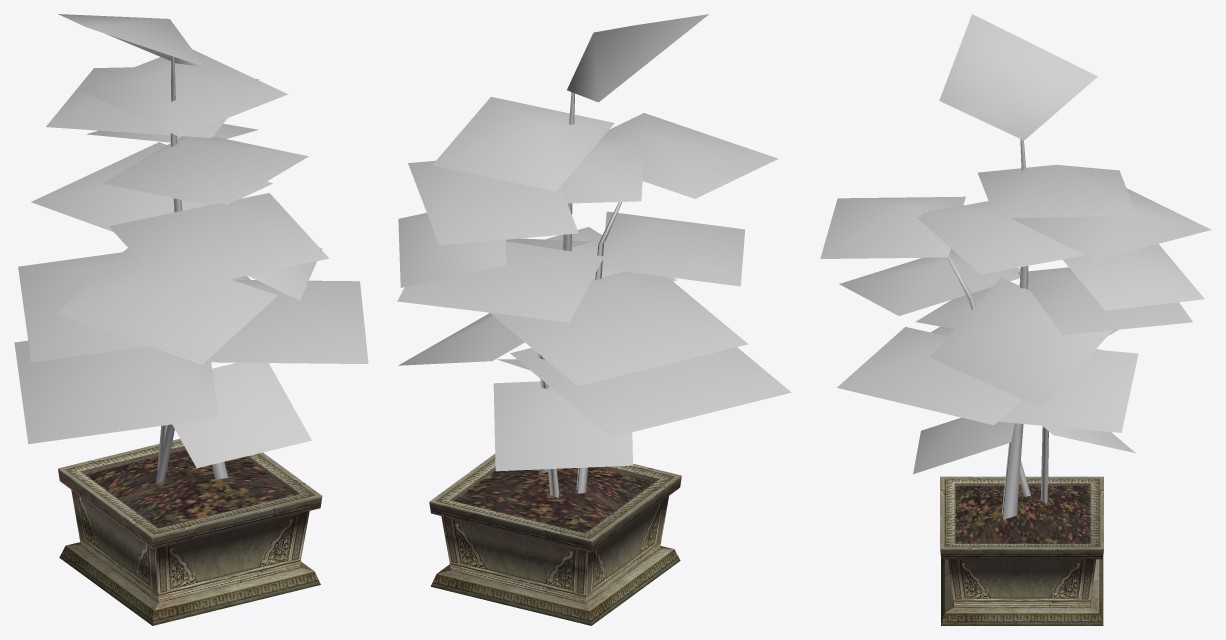
Rendered from penjing_40.FBX.
The picture shows the model from 3 angles, left to right: view 1: azimuth 30°, elevation 25°; view 2: azimuth 150°, elevation 25°; view 3: azimuth 270°, elevation 25°; orthographic projection. The views are drawn at different scales.
Parts seen in each view (by area): view 1: penjing_40; view 2: penjing_40; view 3: penjing_40.
Part boxes in pixels (bbox=[...]): penjing_40: bbox=[14, 14, 368, 625]; penjing_40: bbox=[397, 14, 791, 625]; penjing_40: bbox=[820, 14, 1211, 625].
Size of what is drawn, in the model's own units: 209 by 332 by 227.
